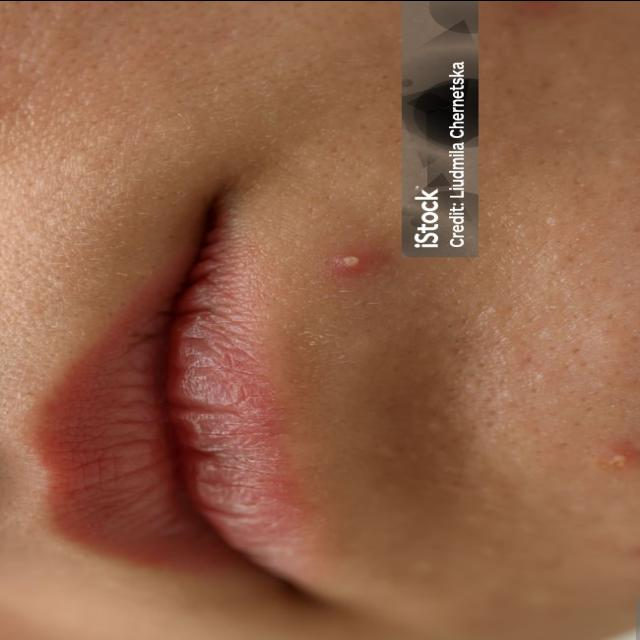pustule: (318, 240, 372, 283), (599, 444, 640, 474)
